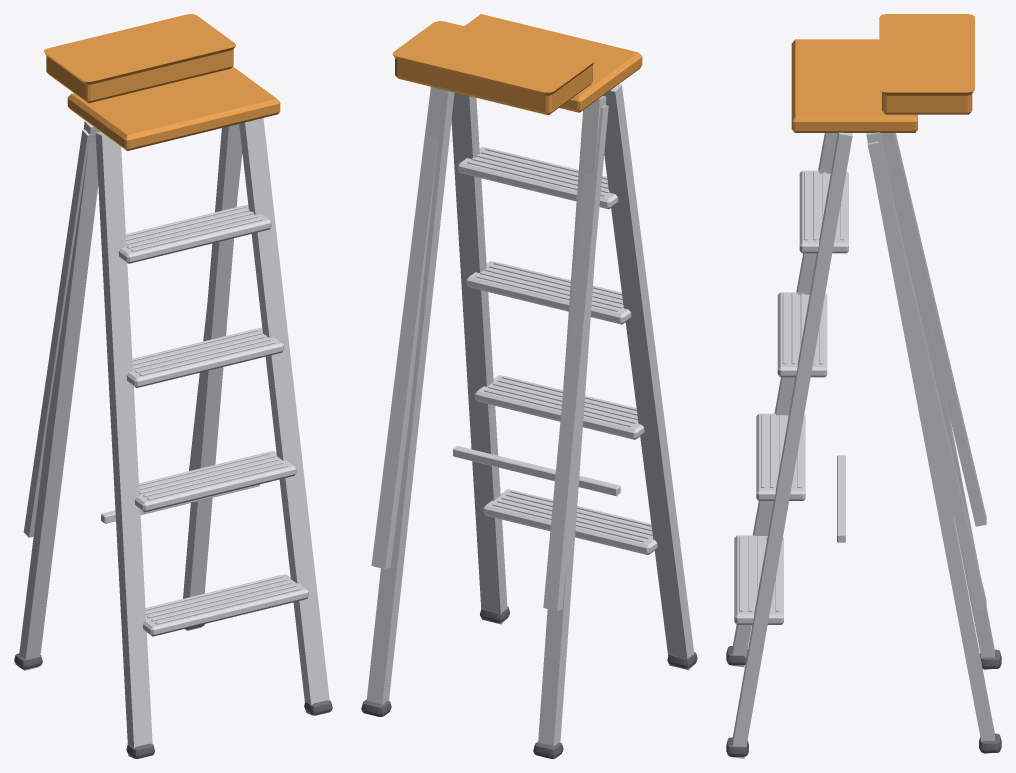
3 renders of one model, left to right at view 1: azimuth 30°, elevation 25°; view 2: azimuth 150°, elevation 25°; view 3: azimuth 270°, elevation 25°, orthographic. The views are drawn at different scales.
Parts seen in each view (by area): view 1: step-ladder; view 2: step-ladder; view 3: step-ladder.
Boxes of the visible parts, x1,y1,x2,y2 form: step-ladder: (14, 14, 332, 758); step-ladder: (361, 14, 697, 758); step-ladder: (726, 14, 1001, 758).
Size of the model in its own units: 0.54 by 1.6 by 0.61.
